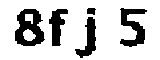5: (111, 4, 150, 52)
8: (11, 5, 46, 49)
f: (49, 6, 71, 50)
j: (73, 5, 102, 59)
